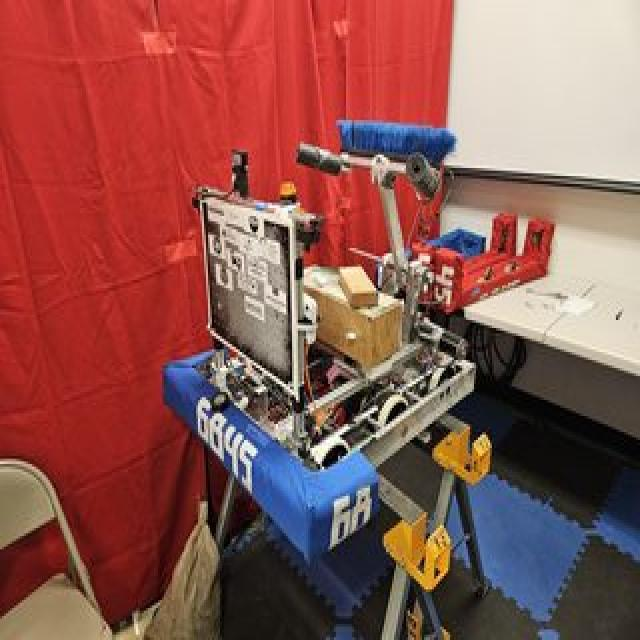robot: (140, 117, 546, 566)
